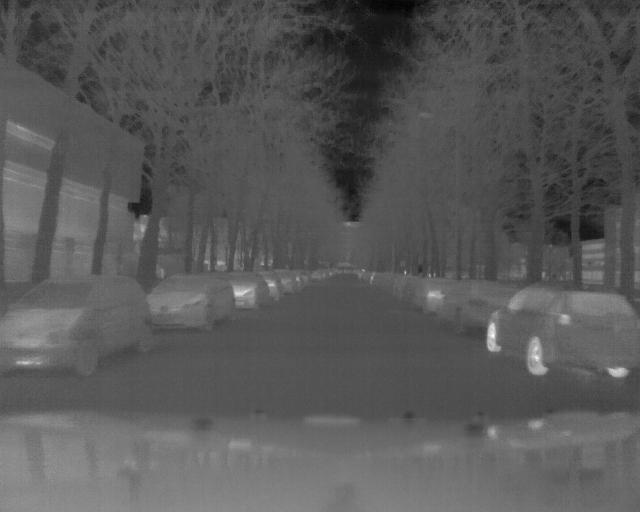car: (1, 272, 155, 379), (483, 280, 640, 381), (142, 271, 236, 332), (434, 276, 525, 338), (216, 271, 271, 310), (412, 276, 467, 314), (252, 271, 285, 300)
